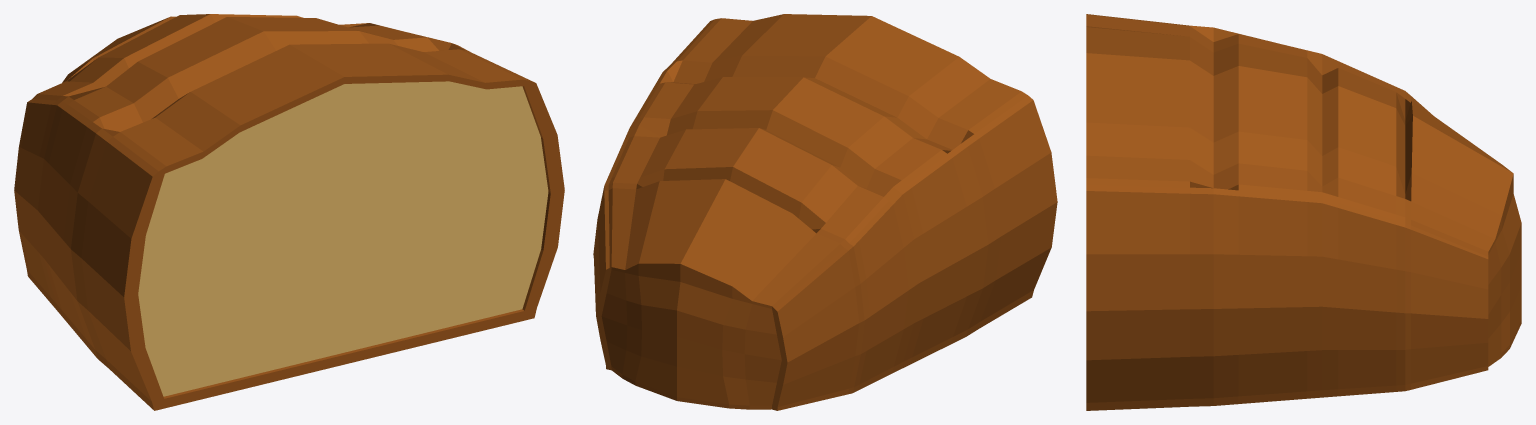
The model's file is kruh.fbx.
The picture shows the model from 3 angles, left to right: view 1: azimuth 30°, elevation 25°; view 2: azimuth 150°, elevation 25°; view 3: azimuth 270°, elevation 25°; orthographic projection. The views are drawn at different scales.
Visible parts, largest first — view 1: Cube; view 2: Cube; view 3: Cube.
Part boxes in pixels (x1,y1,x2,y2): Cube: [14, 14, 564, 410]; Cube: [593, 14, 1057, 410]; Cube: [1086, 14, 1521, 410].
Bounding box in the file's own units: 1300 × 811 × 1182.
